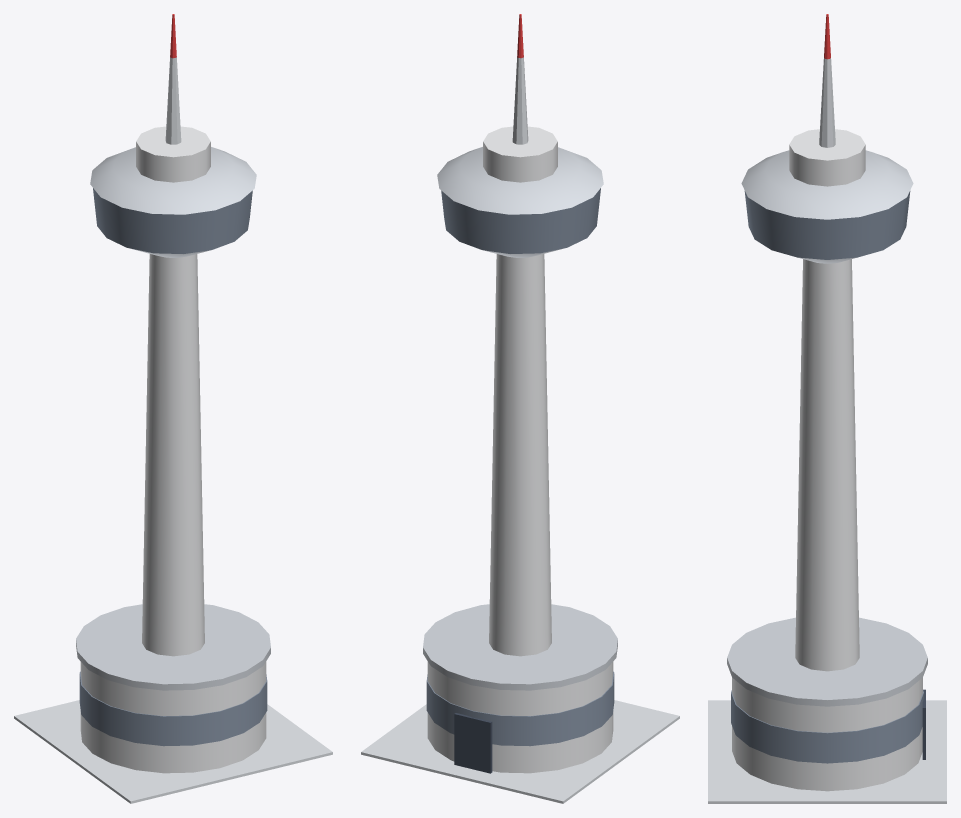
File: observation_tower.glb
3 renders of one model, left to right at view 1: azimuth 30°, elevation 25°; view 2: azimuth 150°, elevation 25°; view 3: azimuth 270°, elevation 25°, orthographic. The views are drawn at different scales.
Visible parts, largest first — view 1: Body; view 2: Body; view 3: Body.
Part boxes in pixels (<box>): Body: <box>14,14,332,803</box>; Body: <box>361,14,679,803</box>; Body: <box>708,14,946,803</box>.
Bounding box in the file's own units: 10 × 34.12 × 10.
